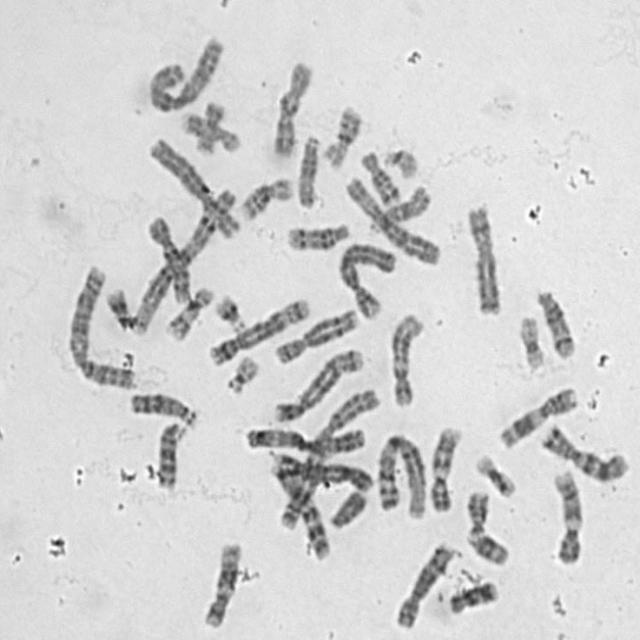A1: (126, 178, 240, 338), (371, 426, 430, 520)
A2: (271, 382, 380, 533), (61, 259, 139, 391)
A3: (142, 29, 225, 114), (240, 418, 368, 456)
B4: (334, 235, 399, 321), (266, 449, 375, 494)
B5: (268, 340, 368, 424), (203, 290, 311, 367)
C10: (266, 53, 314, 159), (142, 210, 194, 306)
C11: (492, 379, 580, 450), (459, 483, 512, 569)
C12: (197, 535, 243, 630), (384, 306, 425, 408)
C6: (144, 129, 242, 240), (340, 170, 442, 266)
C7: (264, 454, 333, 562), (535, 418, 631, 484)
C8: (389, 536, 457, 631), (268, 301, 359, 365)
C9: (546, 462, 586, 566), (424, 419, 464, 514)
D13: (123, 385, 199, 429), (150, 415, 188, 491)
D14: (529, 281, 577, 361), (280, 215, 352, 252)
D15: (364, 178, 431, 236), (291, 127, 321, 210)
E16: (317, 98, 364, 170), (234, 170, 296, 222)
E17: (160, 279, 215, 341), (176, 106, 242, 154)
E18: (354, 144, 402, 208), (443, 574, 501, 616)
F19: (469, 446, 517, 499), (512, 308, 547, 372)
F20: (176, 106, 242, 154), (189, 95, 226, 156)
G21: (210, 287, 248, 333), (100, 280, 134, 330)
G22: (220, 349, 260, 395), (378, 140, 420, 180)
X: (460, 197, 503, 318)
Y: (324, 483, 368, 530)
